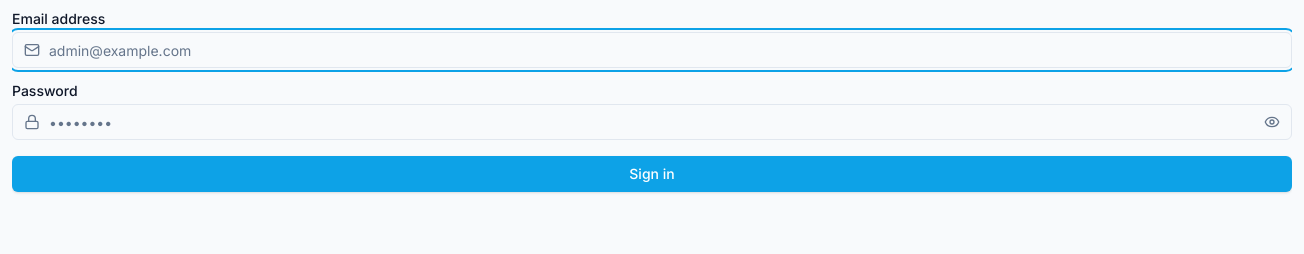
Test: LoginForm › shows invalid email error
Type "not-an-email" into the field labelled "Email address".
click(652, 50); type("not-an-email")  # box [12,32,1292,68]
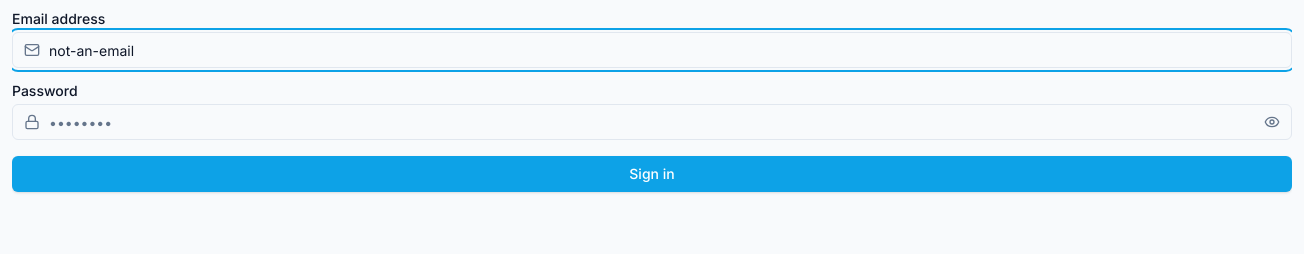
Click the button "Sign in".
click(652, 174)  # box [12,156,1292,192]
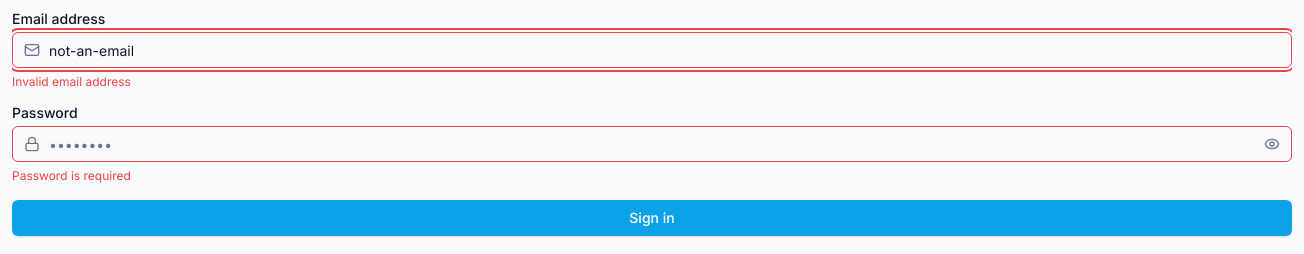
Now the text "Invalid email address" is shown, box [12,74,131,89]
